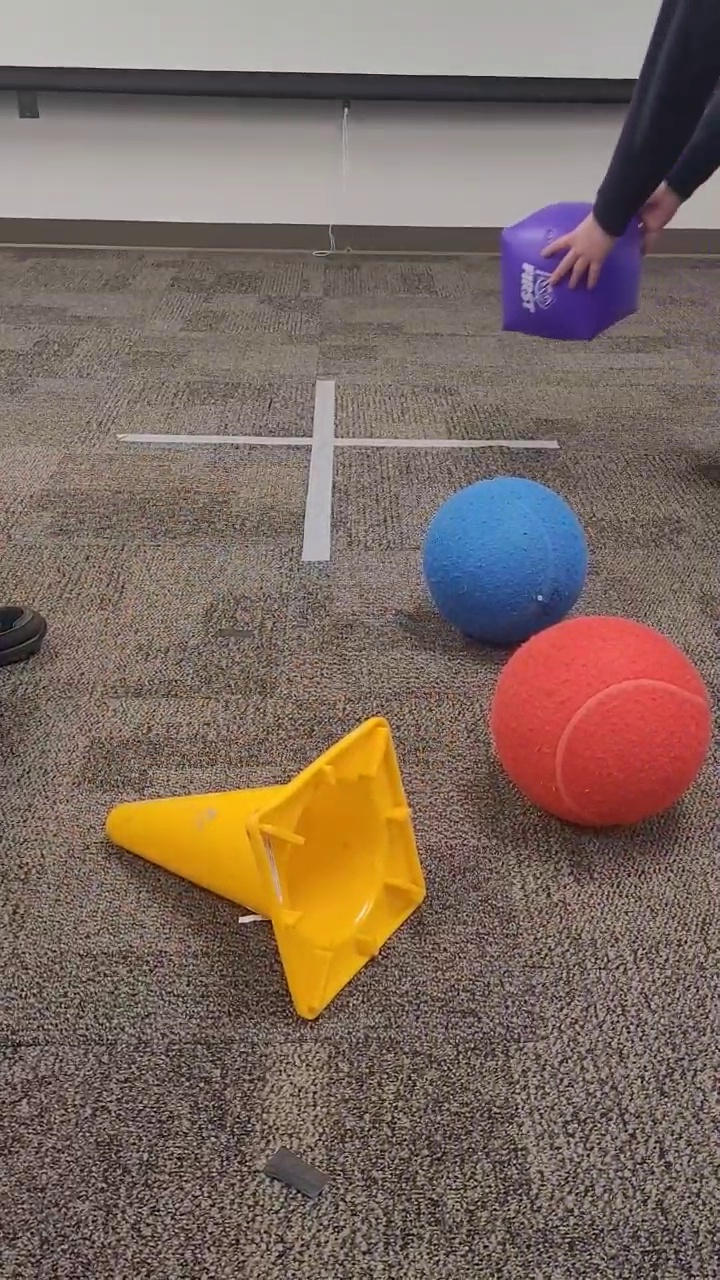ball: (485, 613, 713, 832), (420, 474, 588, 645)
cone: (101, 709, 431, 1025)
cube: (494, 193, 644, 346)
foot: (1, 599, 52, 671)
hand: (535, 213, 621, 293), (635, 178, 680, 248)
